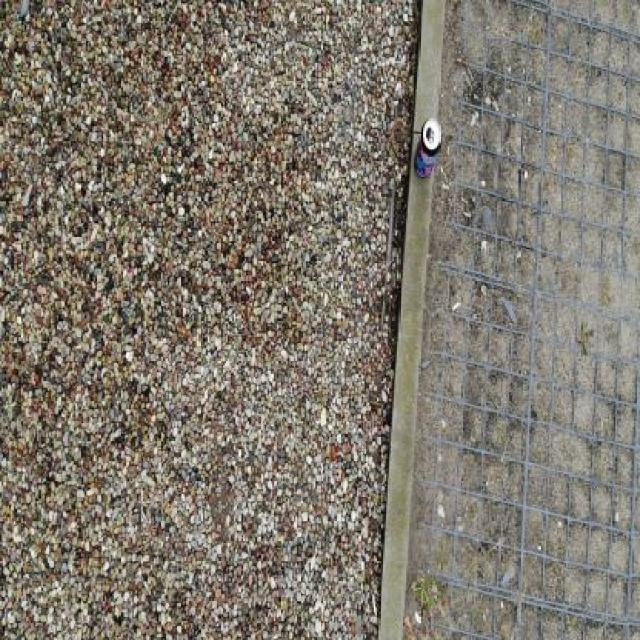Garbage: (414, 120, 441, 178)
